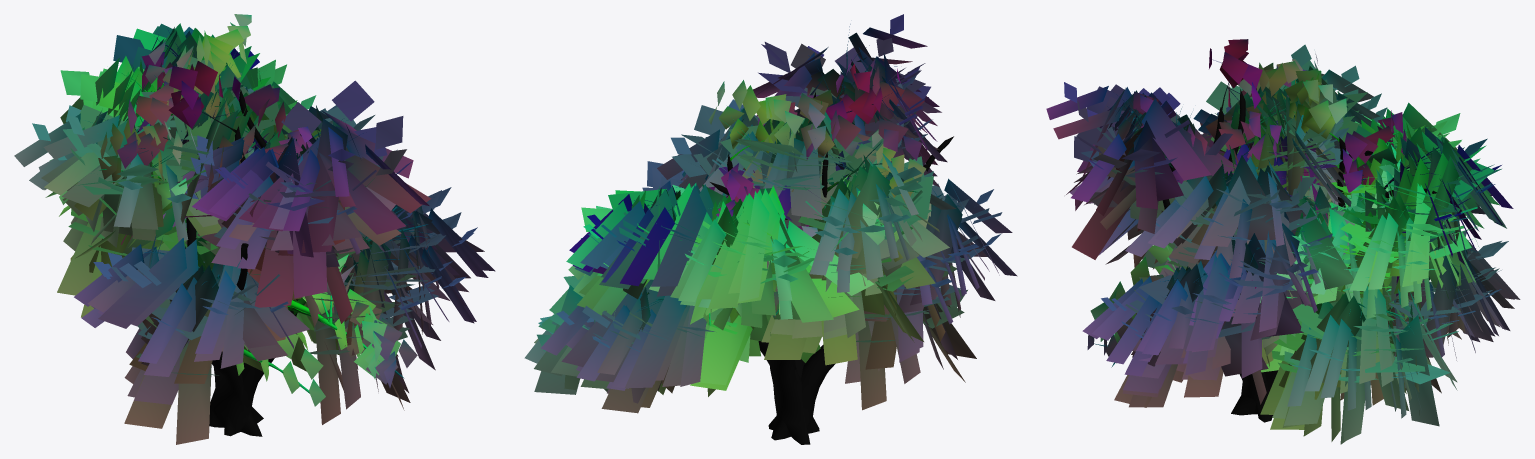
File: SM_PeachLeafWillow2.fbx
3 views of the same model, side by side, from view 1: azimuth 30°, elevation 25°; view 2: azimuth 150°, elevation 25°; view 3: azimuth 270°, elevation 25° (orthographic). The views are drawn at different scales.
Parts seen in each view (by area): view 1: willow branch_1, willow branch_2, mossybark03_0; view 2: willow branch_1, willow branch_2, mossybark03_0; view 3: willow branch_1, willow branch_2, mossybark03_0.
Part boxes in pixels (x1,y1,x2,y2): willow branch_1: [14, 23, 495, 444]; willow branch_2: [75, 14, 417, 406]; mossybark03_0: [87, 30, 434, 436]; willow branch_1: [524, 14, 1017, 413]; willow branch_2: [703, 53, 926, 325]; mossybark03_0: [634, 24, 964, 444]; willow branch_1: [1046, 44, 1520, 444]; willow branch_2: [1087, 39, 1406, 363]; mossybark03_0: [1089, 59, 1476, 422].
Size of the model in its own units: 1518 by 1513 by 1809.
